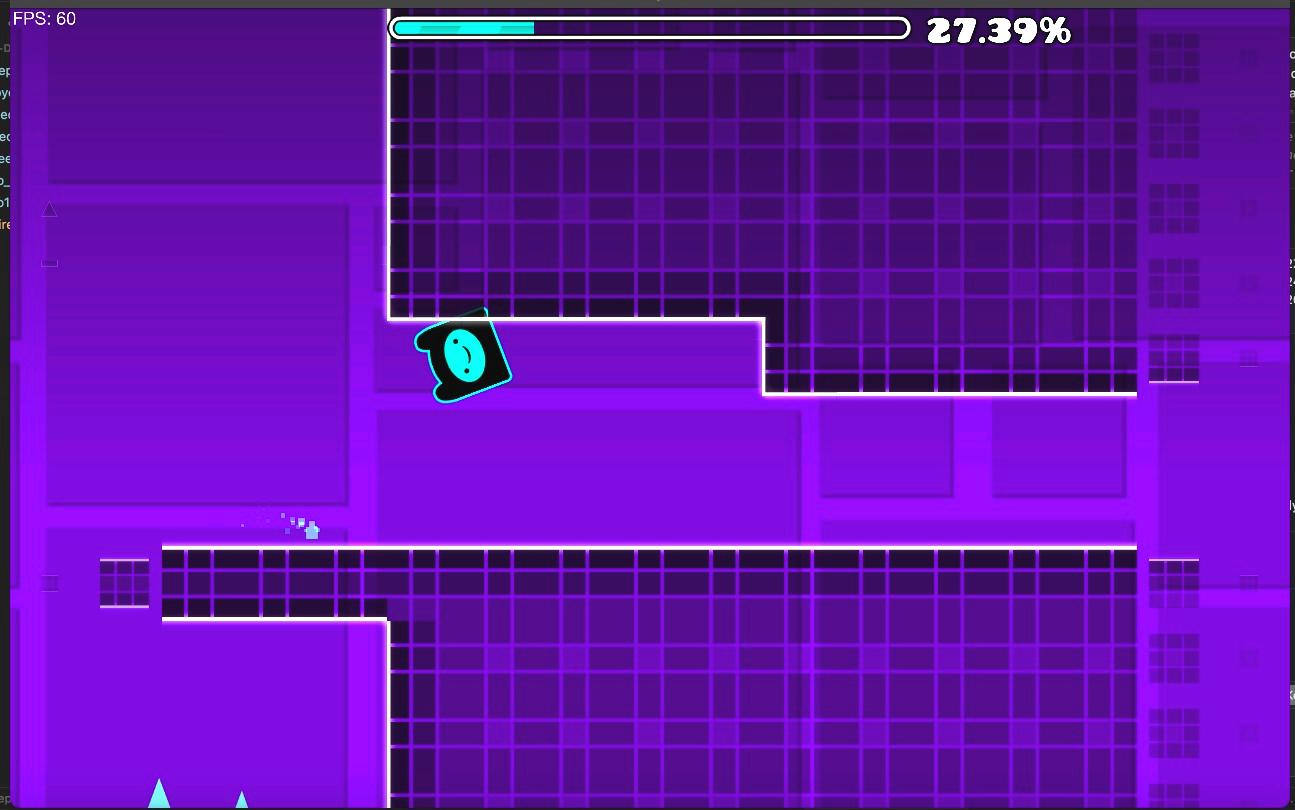block: (387, 549, 1137, 807), (159, 546, 387, 619)
player: (415, 318, 511, 401)
